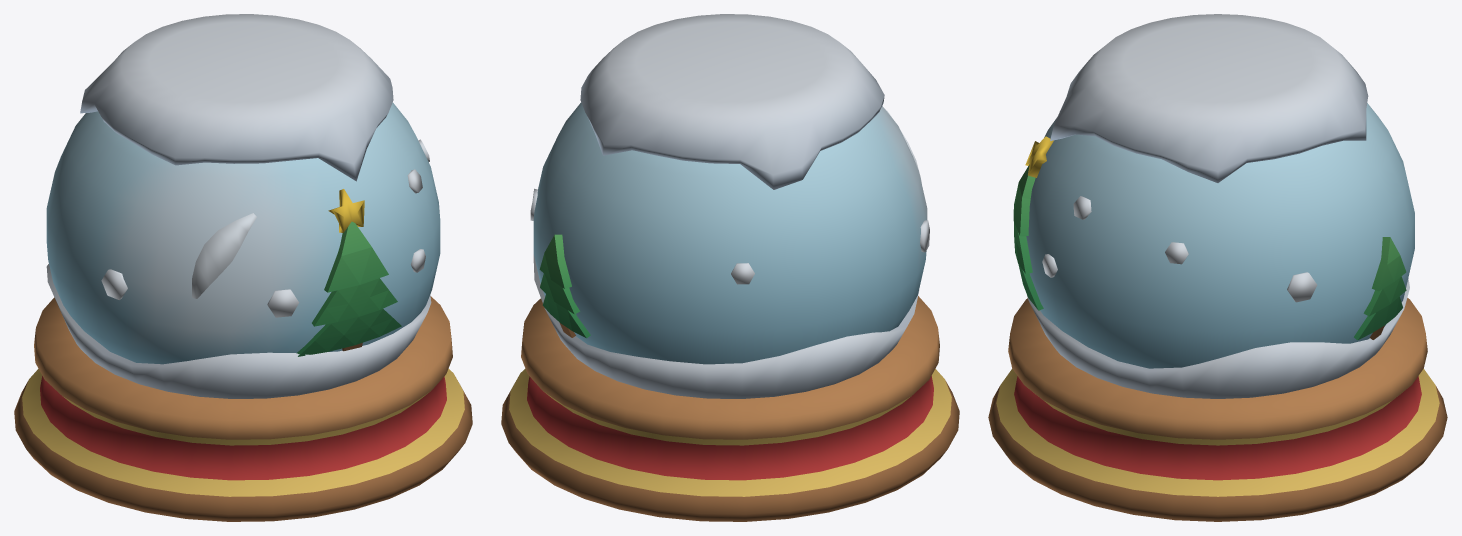
The model's file is pet_mount_snowglobe.fbx.
3 renders of one model, left to right at view 1: azimuth 30°, elevation 25°; view 2: azimuth 150°, elevation 25°; view 3: azimuth 270°, elevation 25°, orthographic.
Parts seen in each view (by area): view 1: pet_mount_snowglobe; view 2: pet_mount_snowglobe; view 3: pet_mount_snowglobe.
Boxes of the visible parts, x1,y1,x2,y2 form: pet_mount_snowglobe: (14,14,472,521); pet_mount_snowglobe: (501,14,959,521); pet_mount_snowglobe: (988,14,1447,521).
Size of the model in its own units: 2.32 by 2.05 by 2.32.
